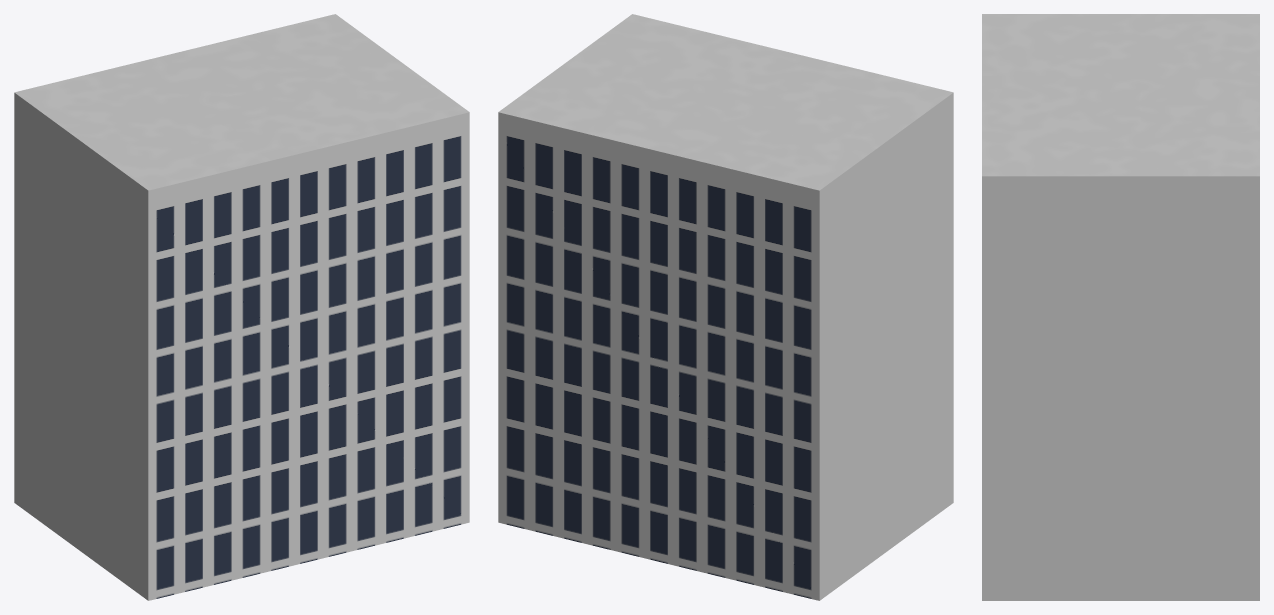
The model's file is Building_S_W3_a_001.fbx.
The picture shows the model from 3 angles, left to right: view 1: azimuth 30°, elevation 25°; view 2: azimuth 150°, elevation 25°; view 3: azimuth 270°, elevation 25°; orthographic projection. The views are drawn at different scales.
Visible parts, largest first — view 1: Building_S_W3_001; view 2: Building_S_W3_001; view 3: Building_S_W3_001.
Boxes of the visible parts, x1,y1,x2,y2 form: Building_S_W3_001: (14,14,469,600); Building_S_W3_001: (498,14,953,600); Building_S_W3_001: (982,14,1259,600).
Bounding box in the file's own units: 30.84 × 37.62 × 22.3.
